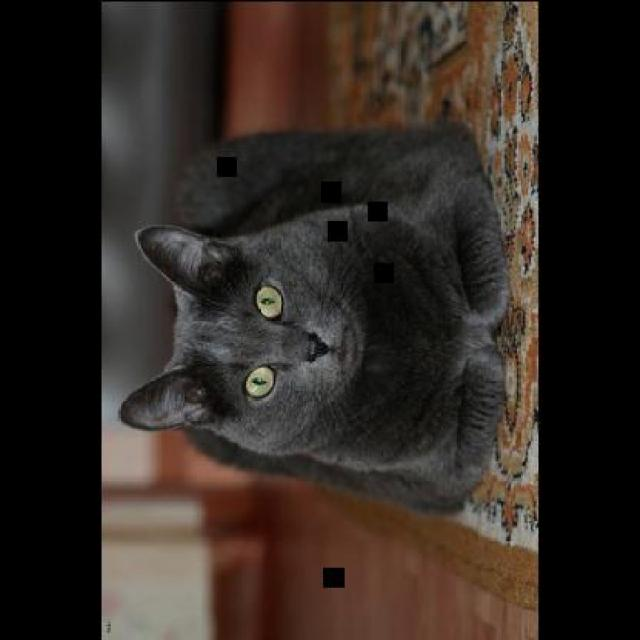unauthorized: (117, 118, 511, 516)
